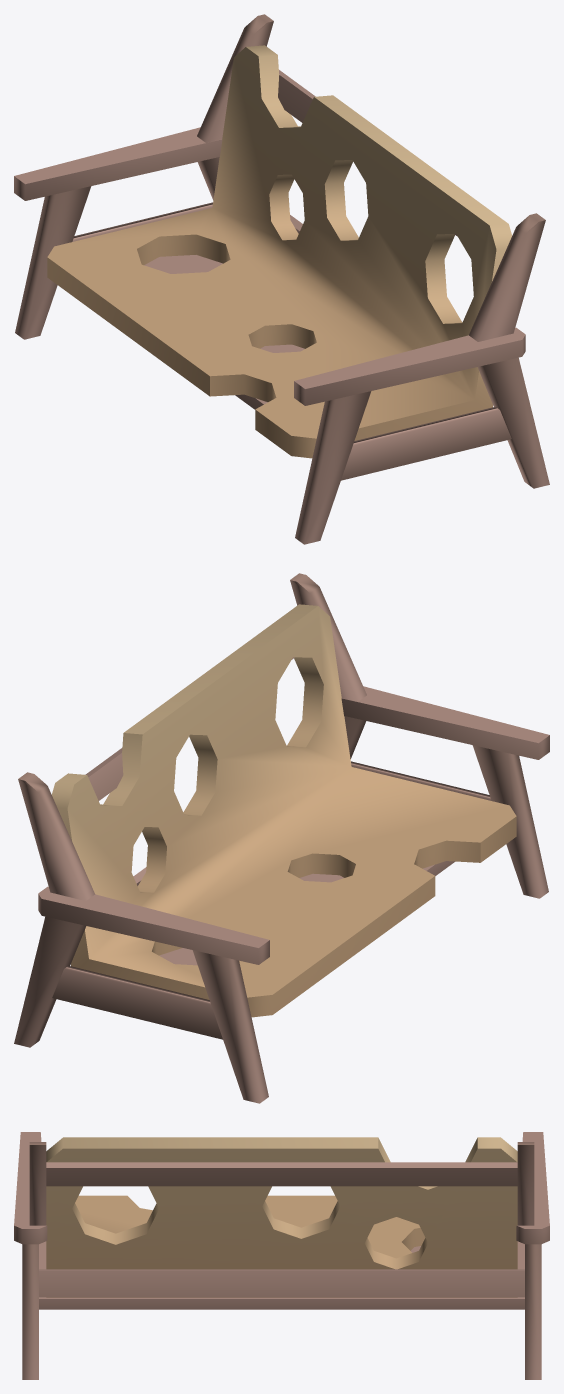
Rendered from saycheese (%secret).glb.
The picture shows the model from 3 angles, top to bottom: view 1: azimuth 30°, elevation 25°; view 2: azimuth 150°, elevation 25°; view 3: azimuth 270°, elevation 25°; orthographic projection. The views are drawn at different scales.
Visible parts, largest first — view 1: saycheese (%secret); view 2: saycheese (%secret); view 3: saycheese (%secret).
Part boxes in pixels (left/top/right/bottom): saycheese (%secret): left=14, top=14, right=549, bottom=544; saycheese (%secret): left=14, top=573, right=549, bottom=1103; saycheese (%secret): left=14, top=1132, right=549, bottom=1379.
Bounding box in the file's own units: 0.8132 × 0.8277 × 1.71.
